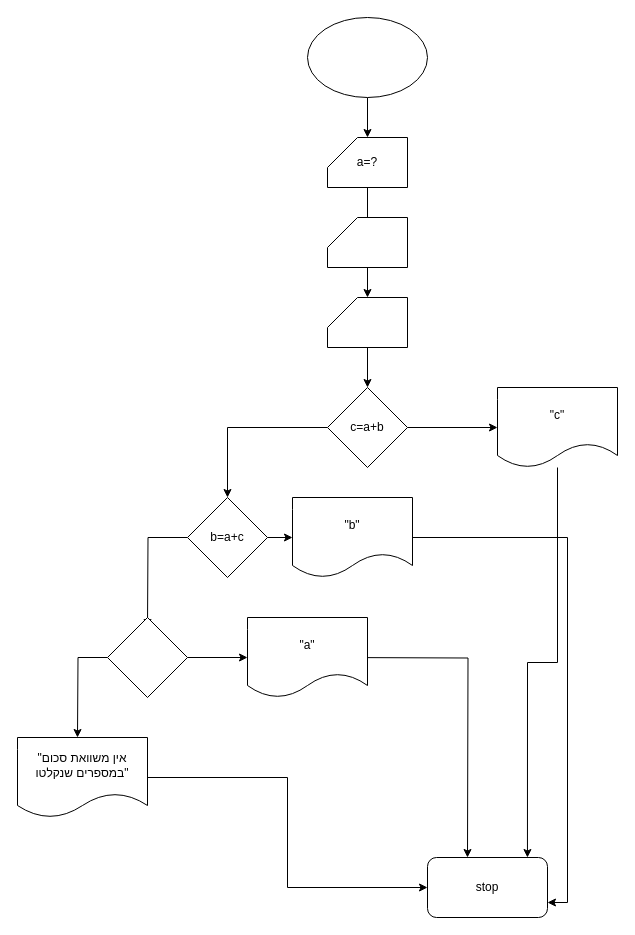
Some shapes in this 635 by 935 pixel diagram are drawn without their labels. Here are the shapes that lost their labels. From the top down, the box of each, then its label:
(306, 16, 428, 98): start
(326, 216, 408, 268): b=?
(326, 296, 408, 348): c=?
(106, 616, 188, 698): a=b+c
